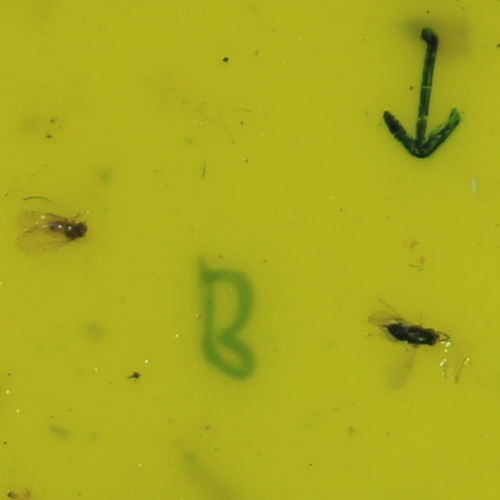Psyllaephagus: (382, 317, 447, 349)
